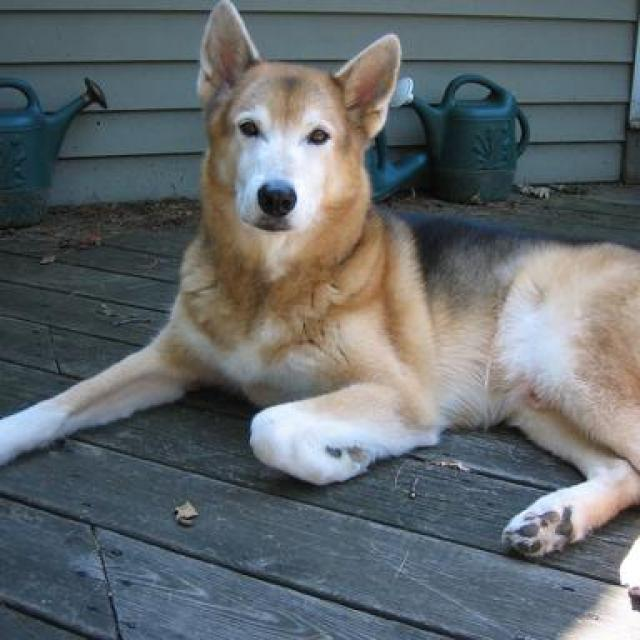relax: (1, 1, 640, 551)
